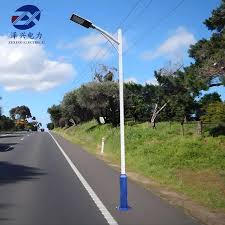light_pole: (114, 25, 132, 212)
